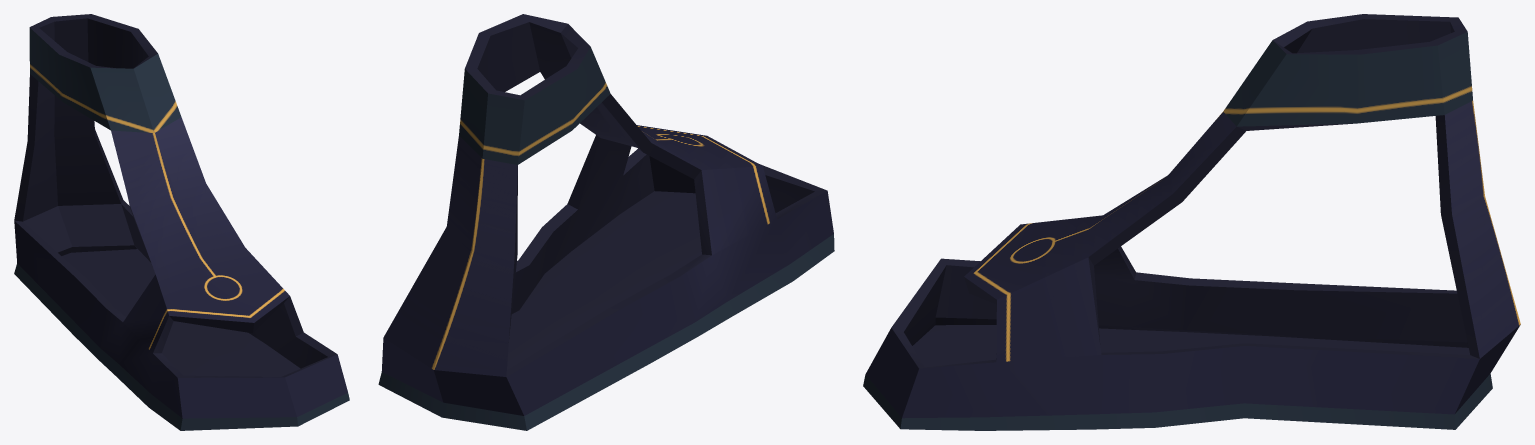
Rendered from MODEL_Shoe.fbx.
3 views of the same model, side by side, from view 1: azimuth 30°, elevation 25°; view 2: azimuth 150°, elevation 25°; view 3: azimuth 270°, elevation 25° (orthographic). The views are drawn at different scales.
Visible parts, largest first — view 1: Model_Shoe; view 2: Model_Shoe; view 3: Model_Shoe.
Part boxes in pixels (bbox=[...]): Model_Shoe: bbox=[14, 14, 349, 430]; Model_Shoe: bbox=[378, 14, 834, 430]; Model_Shoe: bbox=[863, 14, 1520, 430].
Bounding box in the file's own units: 9.07 × 13.85 × 23.78.
